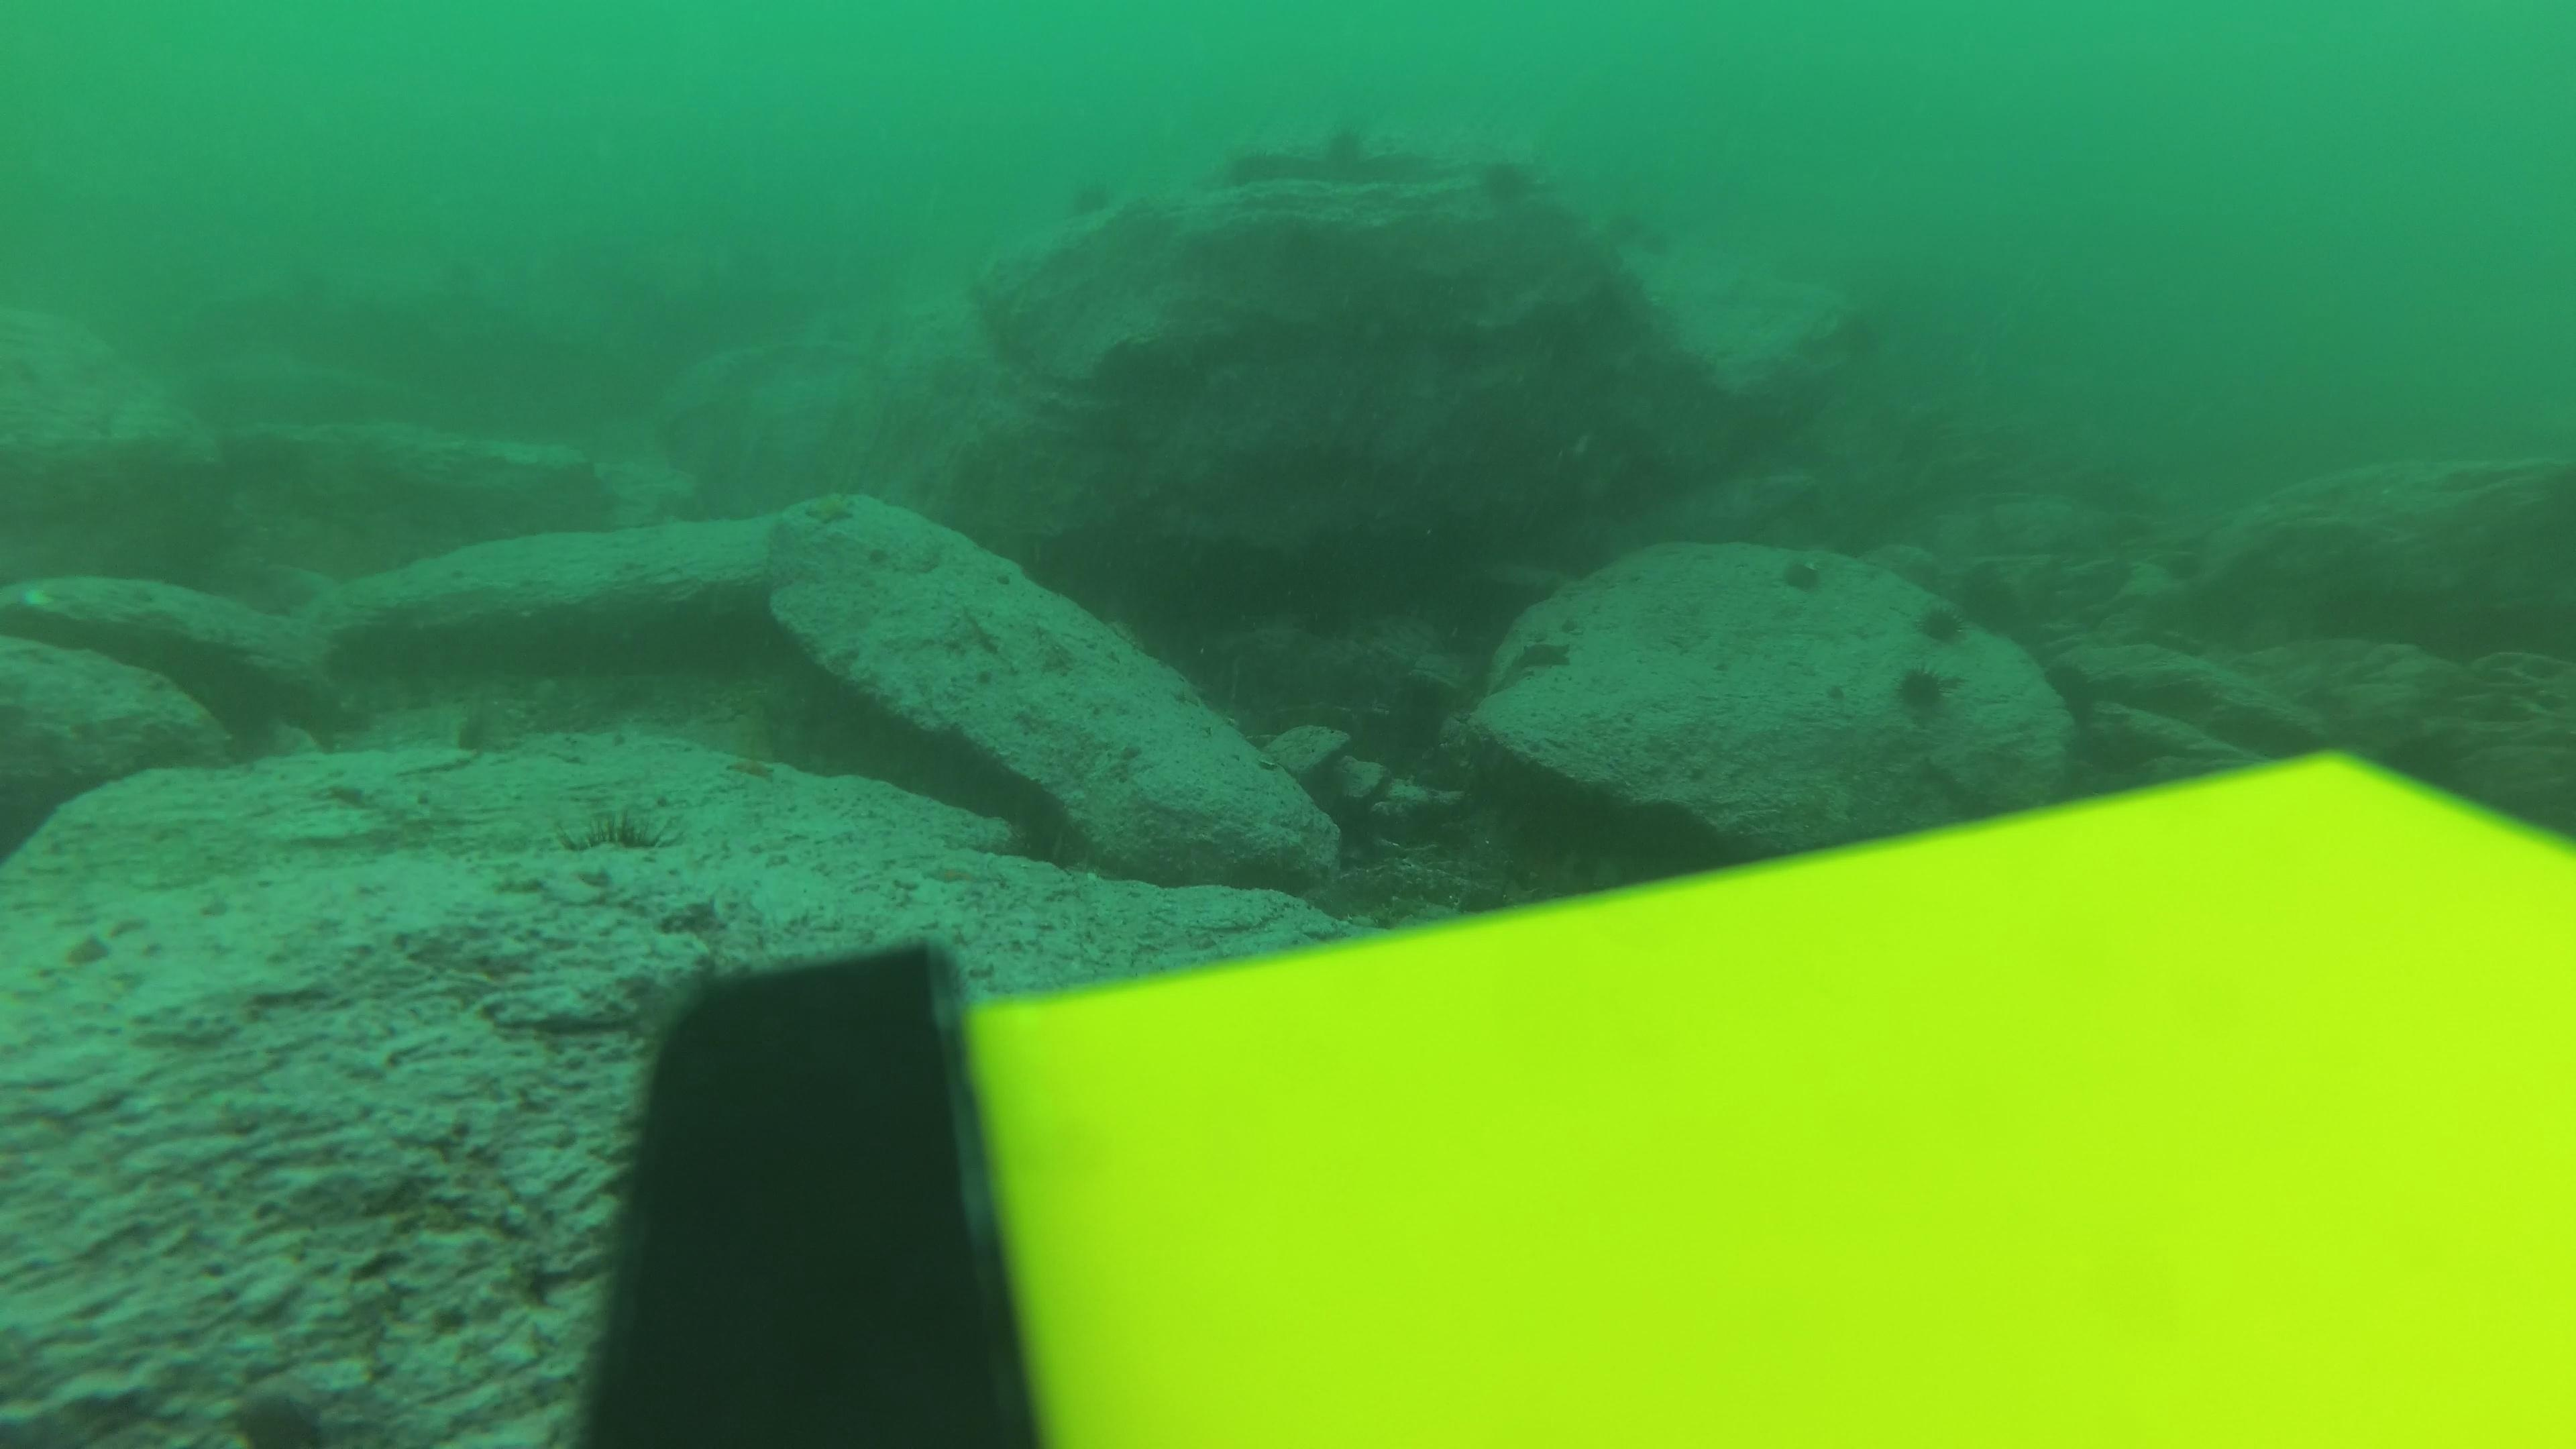echinus: (550, 807, 692, 883), (1468, 149, 1545, 218), (1302, 111, 1378, 179), (1888, 658, 1960, 724), (1063, 166, 1129, 225), (1907, 594, 1974, 651), (1773, 548, 1829, 602)
starfish: (1506, 628, 1580, 681), (789, 485, 863, 531)
